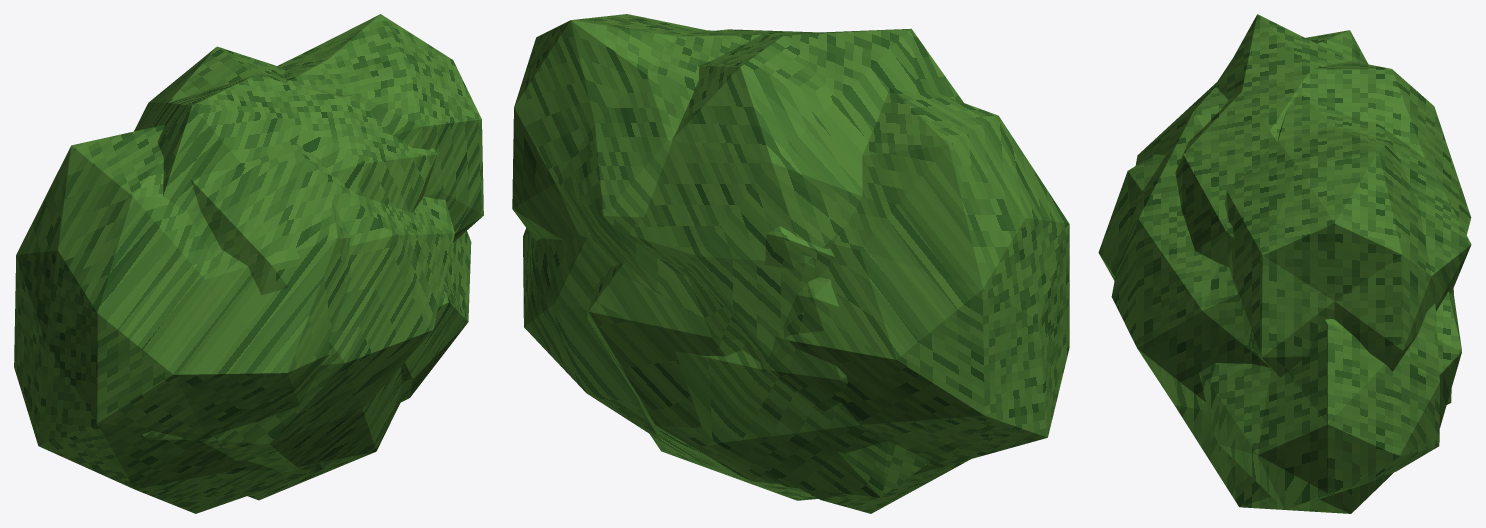
Rendered from bush_wide.glb.
3 views of the same model, side by side, from view 1: azimuth 30°, elevation 25°; view 2: azimuth 150°, elevation 25°; view 3: azimuth 270°, elevation 25° (orthographic). The views are drawn at different scales.
Visible parts, largest first — view 1: leaves; view 2: leaves; view 3: leaves.
Part boxes in pixels (<box>): leaves: <box>14,14,483,513</box>; leaves: <box>512,14,1069,513</box>; leaves: <box>1098,14,1471,513</box>.
Size of the model in its own units: 2.06 by 1.88 by 1.41.
Materials: 1 (1 with a texture image).
